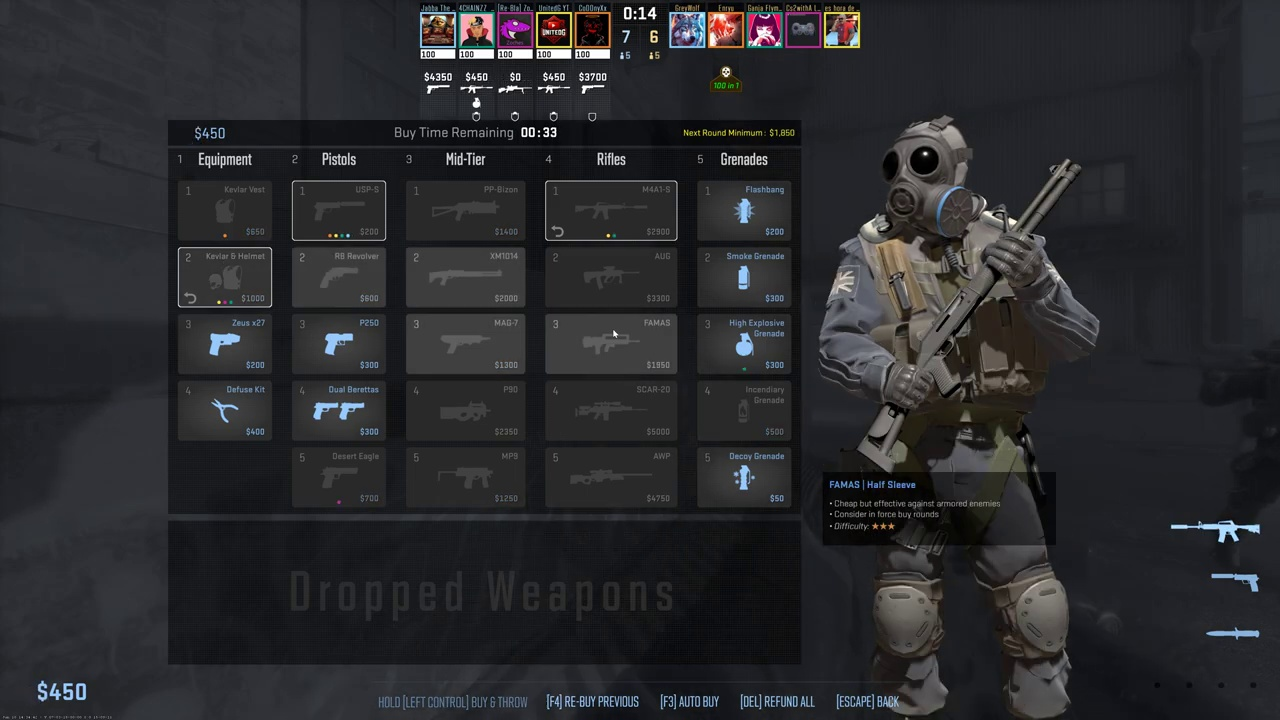CT: (855, 129, 1076, 710)
